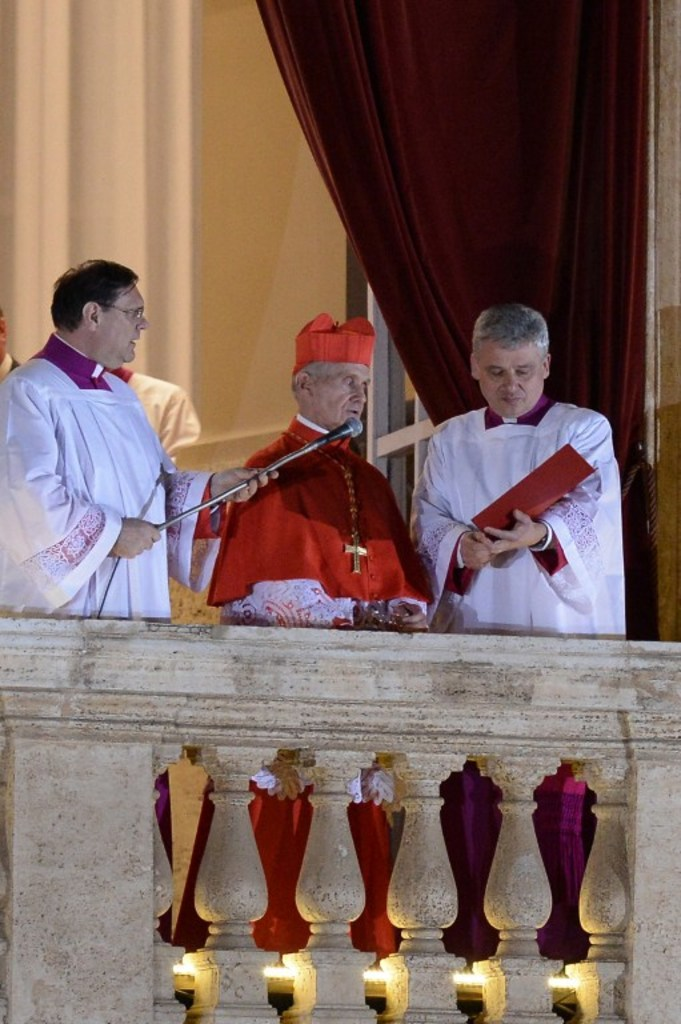Person: (0, 259, 626, 964)
